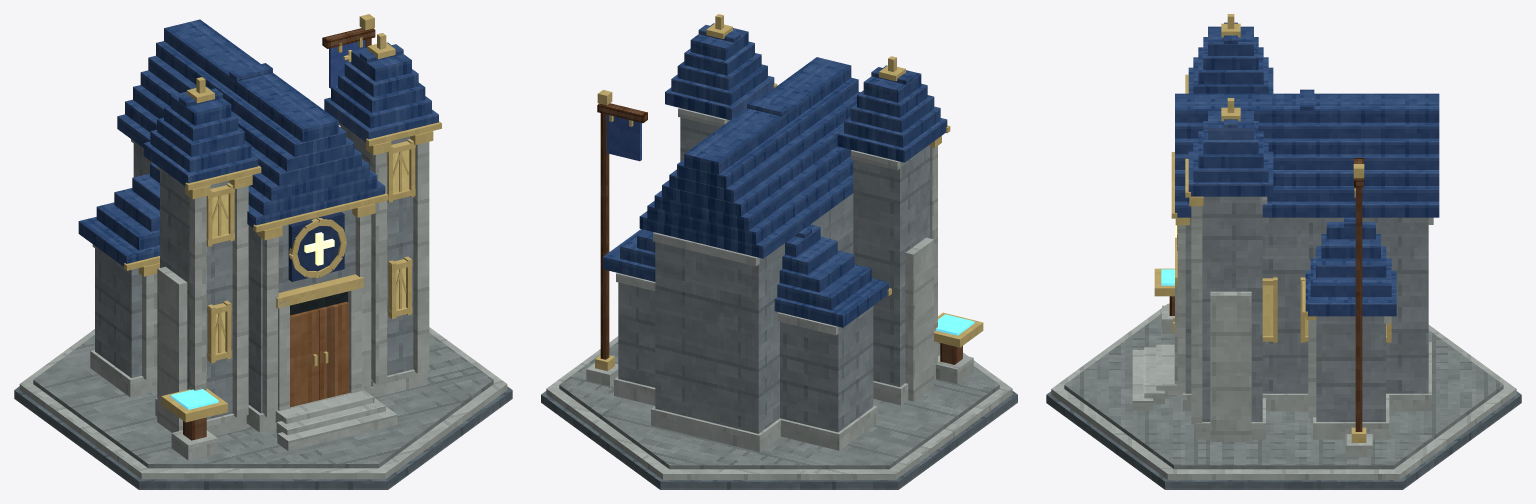
Rendered from sacred_ritual_hex_v1.glb.
3 views of the same model, side by side, from view 1: azimuth 30°, elevation 25°; view 2: azimuth 150°, elevation 25°; view 3: azimuth 270°, elevation 25° (orthographic). The views are drawn at different scales.
Parts seen in each view (by area): view 1: Sacred_Ritual_Hex_V1_Roofs, Sacred_Ritual_Hex_V1_Hall, Sacred_Ritual_Hex_V1_Foundation, Sacred_Ritual_Hex_V1_Details, Sacred_Ritual_Hex_V1_Courtyard, Sacred_Ritual_Hex_V1_Focus, Sacred_Ritual_Hex_V1_Training, Sacred_Ritual_Hex_V1_Faction; view 2: Sacred_Ritual_Hex_V1_Hall, Sacred_Ritual_Hex_V1_Roofs, Sacred_Ritual_Hex_V1_Foundation, Sacred_Ritual_Hex_V1_Faction, Sacred_Ritual_Hex_V1_Details, Sacred_Ritual_Hex_V1_Training; view 3: Sacred_Ritual_Hex_V1_Roofs, Sacred_Ritual_Hex_V1_Hall, Sacred_Ritual_Hex_V1_Foundation, Sacred_Ritual_Hex_V1_Details, Sacred_Ritual_Hex_V1_Faction, Sacred_Ritual_Hex_V1_Courtyard, Sacred_Ritual_Hex_V1_Training.
Part boxes in pixels (<box>): Sacred_Ritual_Hex_V1_Roofs: <box>78,19,441,270</box>; Sacred_Ritual_Hex_V1_Hall: <box>90,125,427,436</box>; Sacred_Ritual_Hex_V1_Foundation: <box>14,327,512,489</box>; Sacred_Ritual_Hex_V1_Details: <box>92,122,433,417</box>; Sacred_Ritual_Hex_V1_Courtyard: <box>275,389,397,450</box>; Sacred_Ritual_Hex_V1_Focus: <box>288,212,346,281</box>; Sacred_Ritual_Hex_V1_Training: <box>161,388,227,460</box>; Sacred_Ritual_Hex_V1_Faction: <box>322,14,375,88</box>; Sacred_Ritual_Hex_V1_Hall: <box>614,117,935,452</box>; Sacred_Ritual_Hex_V1_Roofs: <box>602,14,950,327</box>; Sacred_Ritual_Hex_V1_Foundation: <box>541,336,1017,489</box>; Sacred_Ritual_Hex_V1_Faction: <box>586,90,647,386</box>; Sacred_Ritual_Hex_V1_Details: <box>616,108,941,363</box>; Sacred_Ritual_Hex_V1_Training: <box>934,312,983,383</box>; Sacred_Ritual_Hex_V1_Roofs: <box>1171,14,1439,317</box>; Sacred_Ritual_Hex_V1_Hall: <box>1175,196,1431,441</box>; Sacred_Ritual_Hex_V1_Foundation: <box>1046,303,1521,489</box>; Sacred_Ritual_Hex_V1_Details: <box>1173,196,1433,424</box>; Sacred_Ritual_Hex_V1_Faction: <box>1345,158,1372,457</box>; Sacred_Ritual_Hex_V1_Courtyard: <box>1132,344,1176,410</box>; Sacred_Ritual_Hex_V1_Training: <box>1154,268,1174,333</box>.
Bounding box in the file's own units: 1.59 × 1.48 × 1.84.
1 material, 1 textured.
